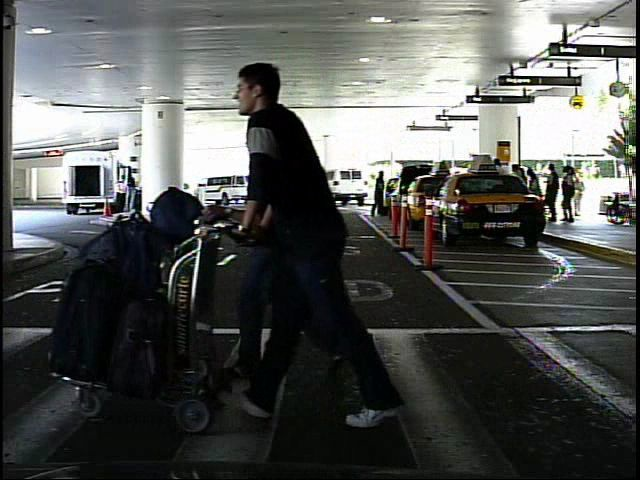person: (225, 49, 403, 428), (373, 166, 391, 222), (112, 170, 130, 219), (574, 172, 593, 218)
